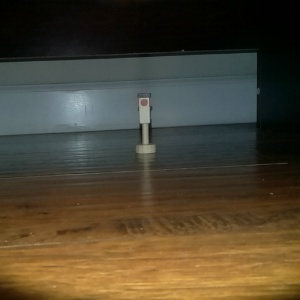traffic light red: (133, 91, 158, 156)
